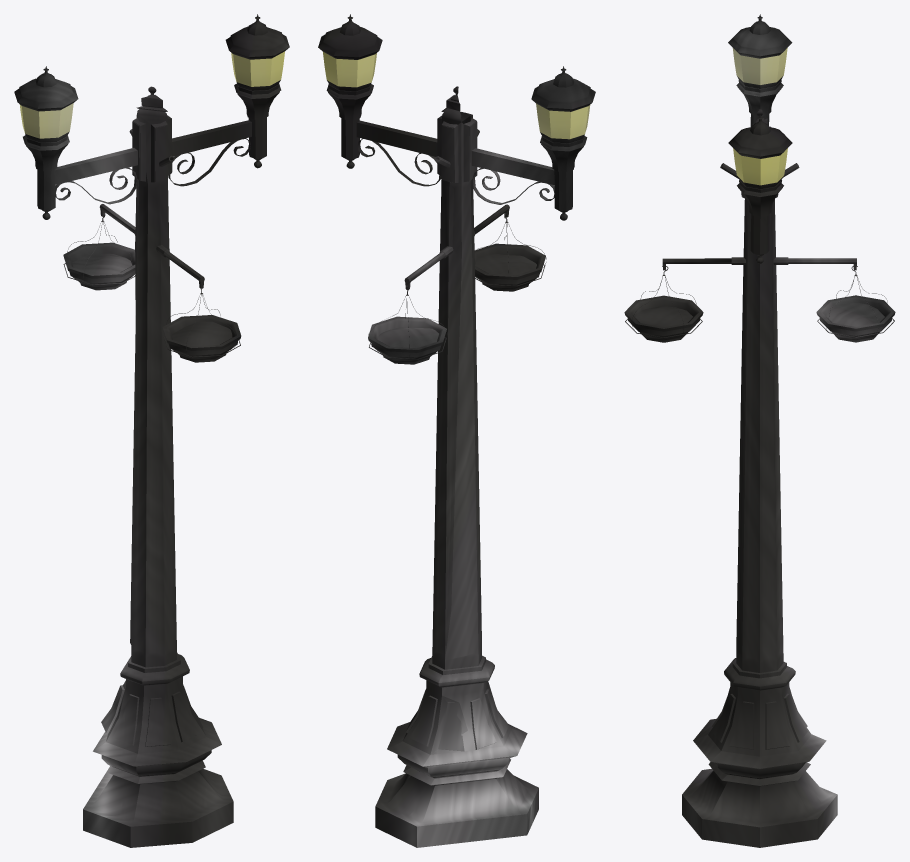
The model's file is lamparas3.obj.
The picture shows the model from 3 angles, left to right: view 1: azimuth 30°, elevation 25°; view 2: azimuth 150°, elevation 25°; view 3: azimuth 270°, elevation 25°; orthographic projection. The views are drawn at different scales.
Parts seen in each view (by area): view 1: Streetlight_LowRes:Streetlight_LowRes; view 2: Streetlight_LowRes:Streetlight_LowRes; view 3: Streetlight_LowRes:Streetlight_LowRes.
Boxes of the visible parts, bbox=[...] form: Streetlight_LowRes:Streetlight_LowRes: bbox=[14, 14, 289, 847]; Streetlight_LowRes:Streetlight_LowRes: bbox=[318, 14, 595, 847]; Streetlight_LowRes:Streetlight_LowRes: bbox=[624, 14, 895, 847].
Size of the model in its own units: 1.54 by 4.24 by 1.39.
2 materials, 2 textured.
